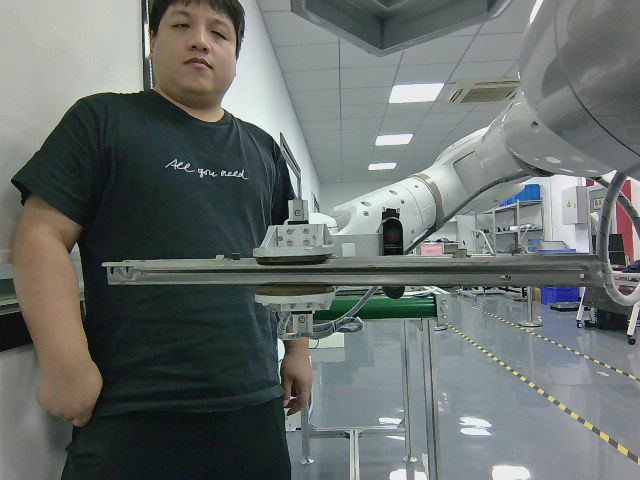up: (103, 255, 608, 285)
